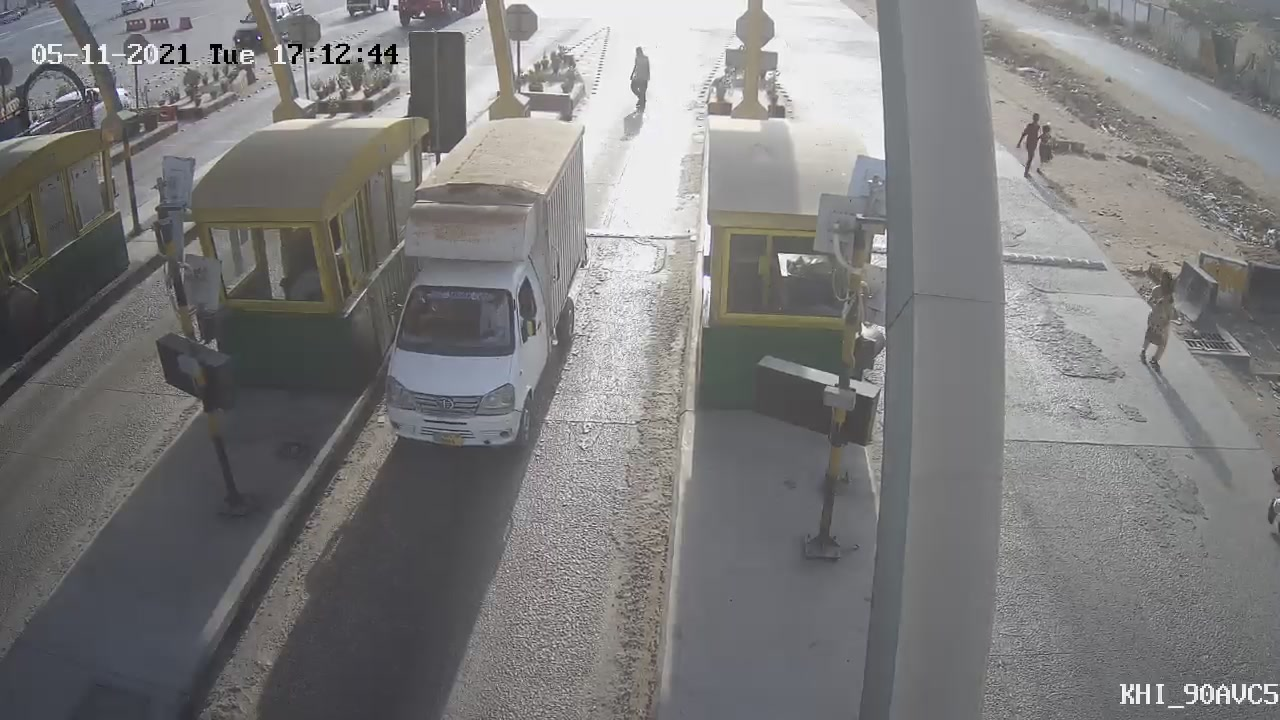F2: (355, 92, 613, 479)
